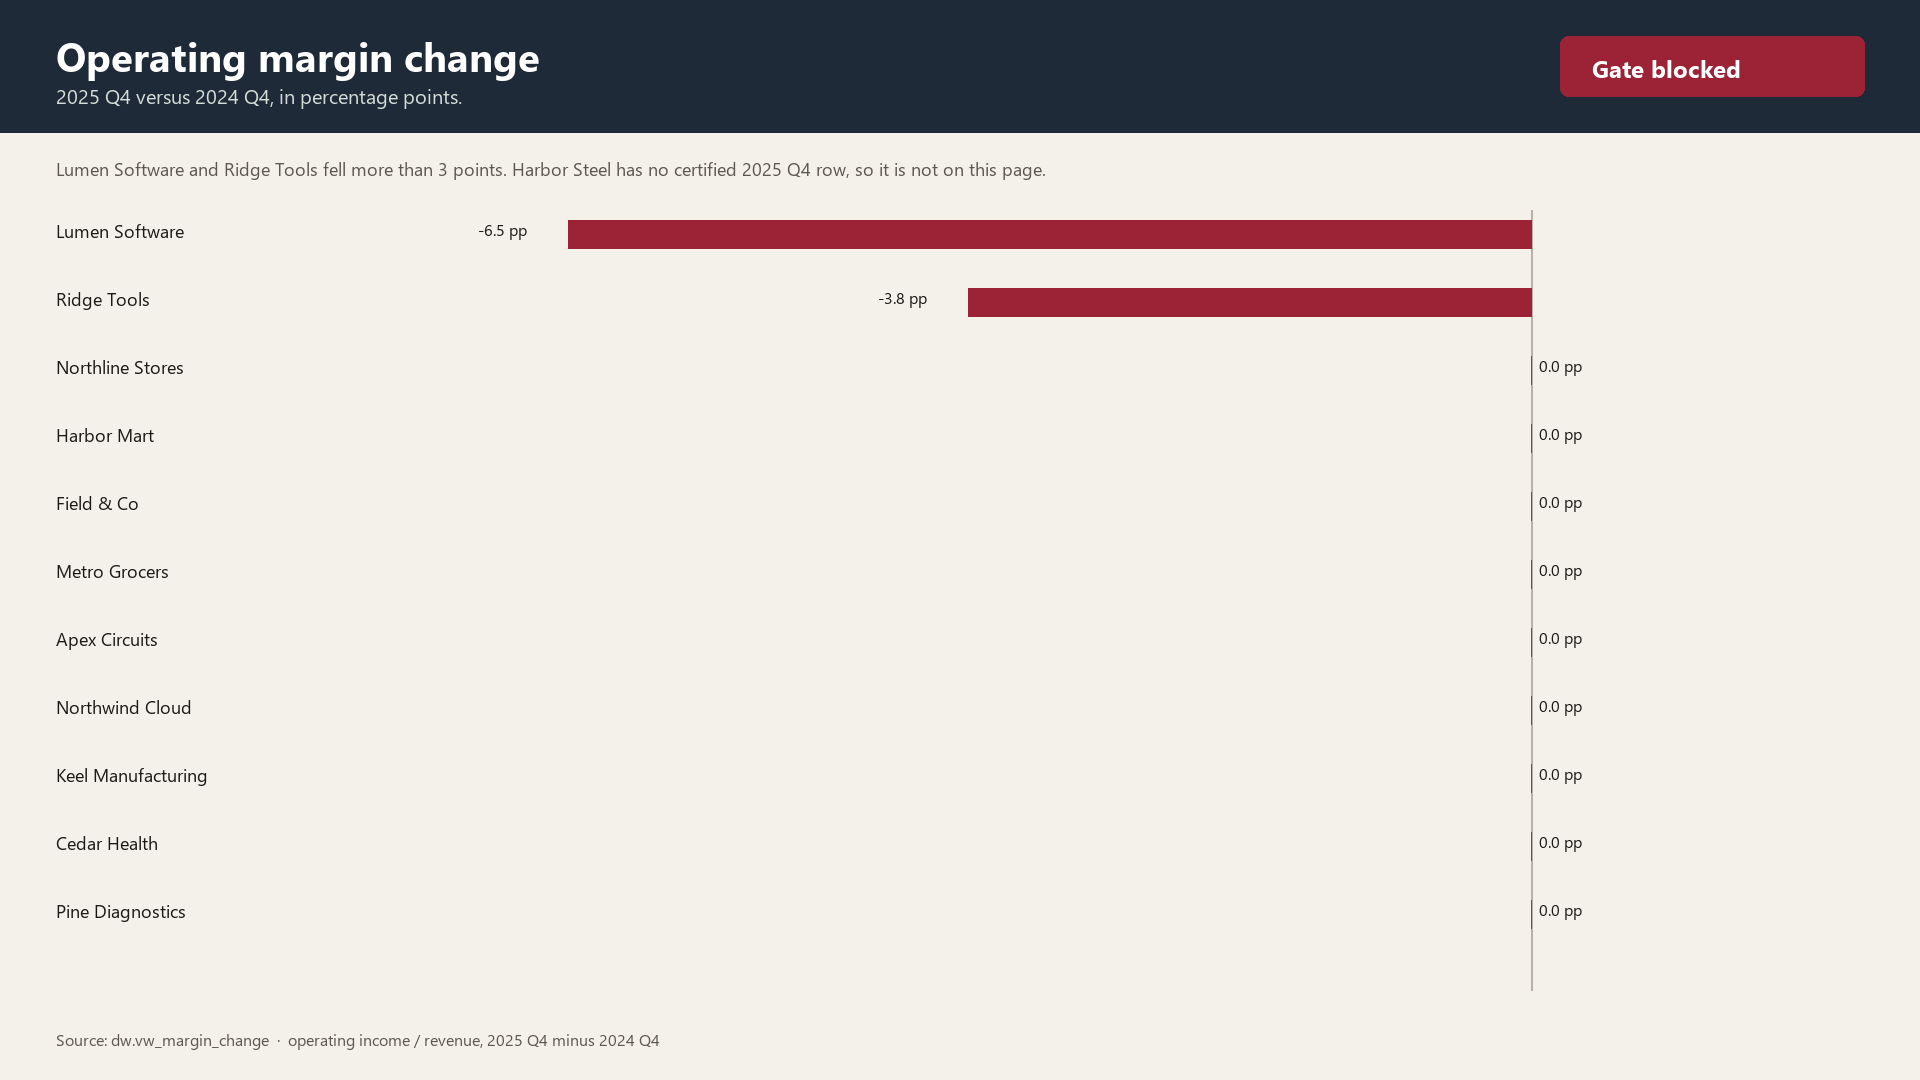

This screenshot's page, from the dashboard's own definition file:
{"tool":"powerbi","page":{"name":"Margin change","canvas":[1280,720],"ordinal":1},"visuals":[{"type":"clusteredBarChart","fields":{"Category":["MarginChange.Company"],"Y":["MarginChange.Margin Change"]},"box":[40,30,1200,640],"z":0}]}

Visuals, with their boxes in screenshot pixels (x1, y1, x2, y2), scaled from the page's 1280x720 canvas onto the 1920x1080 screenshot:
clusteredBarChart - MarginChange.Company x MarginChange.Margin Change: bbox=(60, 45, 1860, 1005)
